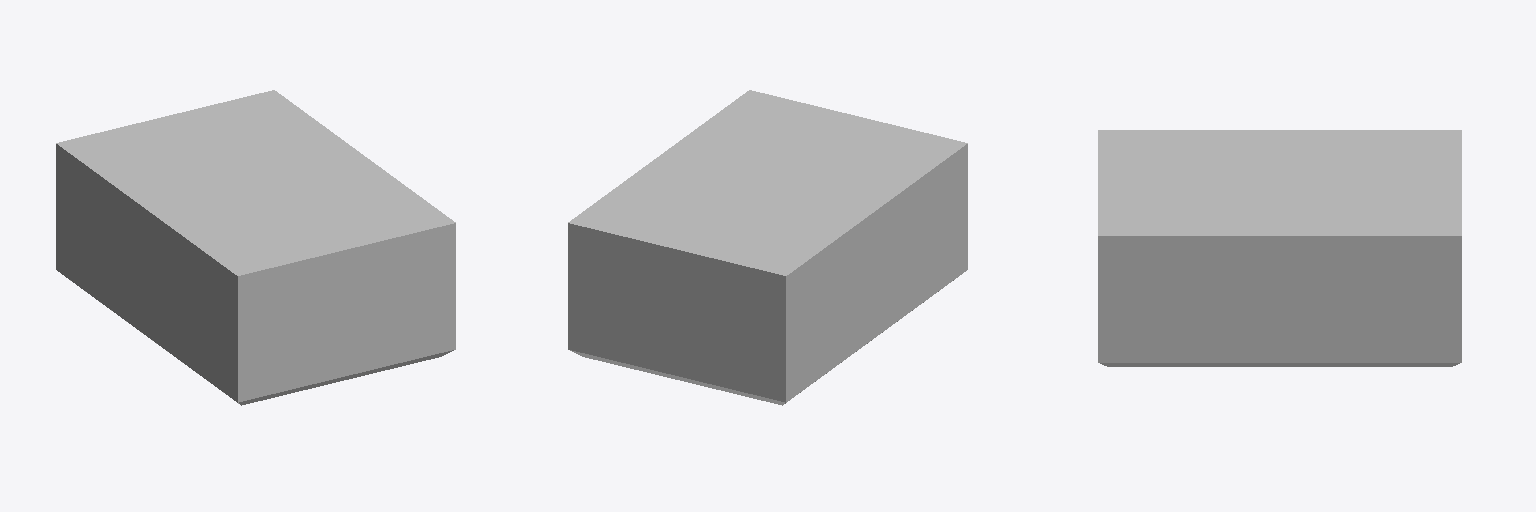
File: locker.obj
The picture shows the model from 3 angles: view 1: azimuth 30°, elevation 25°; view 2: azimuth 150°, elevation 25°; view 3: azimuth 270°, elevation 25°; orthographic projection.
Visible parts, largest first — view 1: Locker; view 2: Locker; view 3: Locker.
Boxes of the visible parts, x1=… form: Locker: x1=56, y1=90, x2=455, y2=405; Locker: x1=568, y1=90, x2=967, y2=405; Locker: x1=1098, y1=130, x2=1461, y2=366.
Bounding box in the file's own units: 9.66 × 6.16 × 13.92.